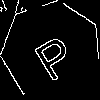P: (26, 26, 79, 83)
